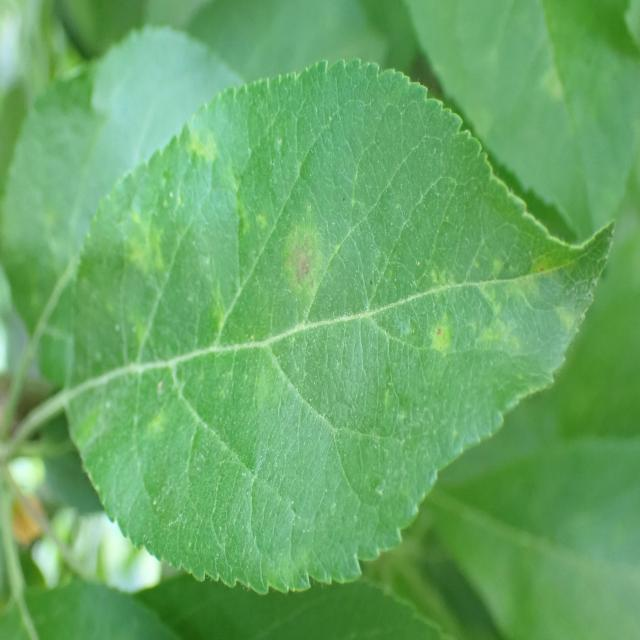scab: (63, 140, 599, 480)
